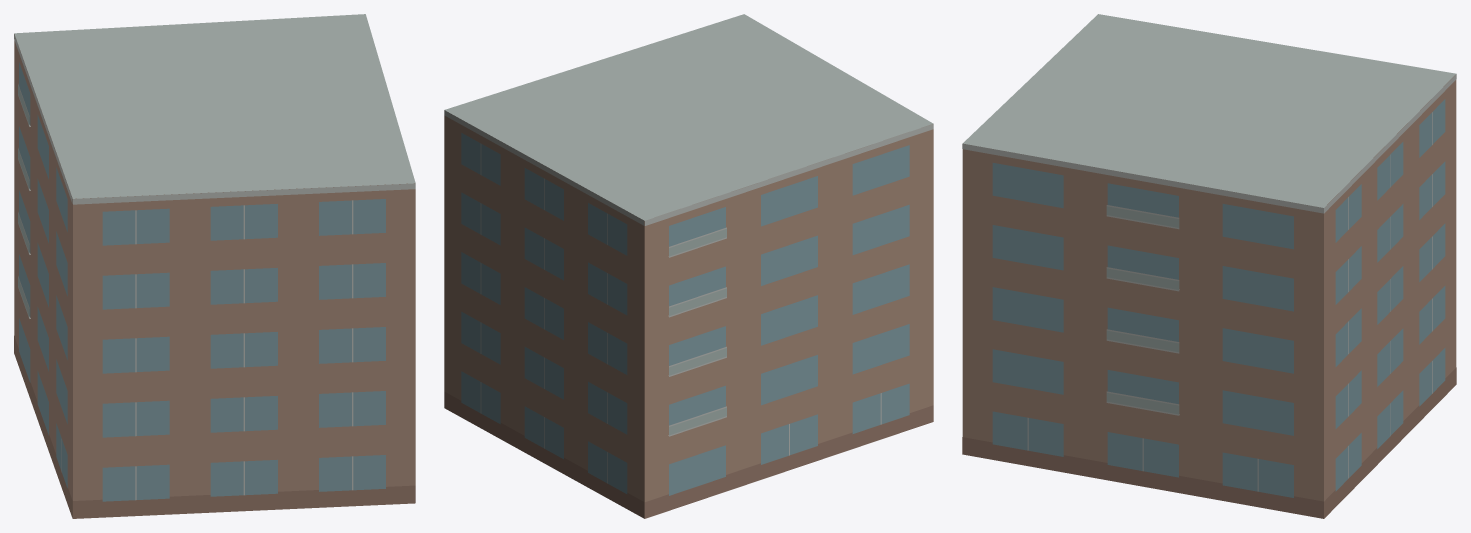
Rendered from survey-upis-33032361.glb.
The picture shows the model from 3 angles, left to right: view 1: azimuth 30°, elevation 25°; view 2: azimuth 150°, elevation 25°; view 3: azimuth 270°, elevation 25°; orthographic projection. The views are drawn at different scales.
Parts seen in each view (by area): view 1: survey-upis-33032361.tmp; view 2: survey-upis-33032361.tmp; view 3: survey-upis-33032361.tmp.
Boxes of the visible parts, x1,y1,x2,y2 form: survey-upis-33032361.tmp: (14,14,415,518); survey-upis-33032361.tmp: (444,14,933,518); survey-upis-33032361.tmp: (962,14,1456,518).
Bounding box in the file's own units: 18.08 × 13.5 × 19.45.
